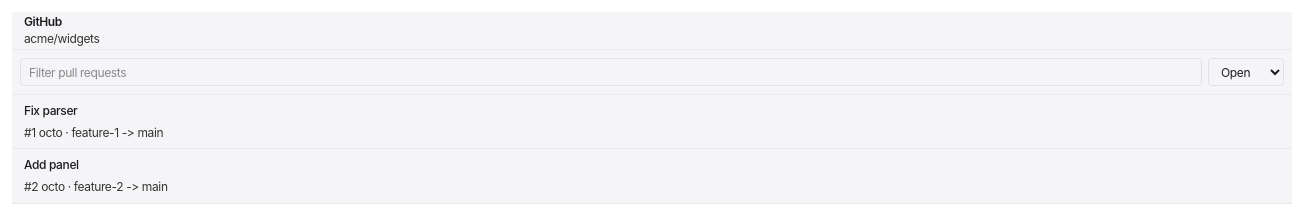
Test case: PullRequestPanel › loads the provider list and filters visible requests
Check: the text with test id "provider-name" reads "GitHub", box [24,14,62,29]
Check: the number of buttons with test id "pull-request-row" is 2, box [12,95,1292,149]; [12,149,1292,204]
Step 1. Type "feature-2" into the search field with test id "pull-request-filter" → (611, 72), box [20,58,1202,86]
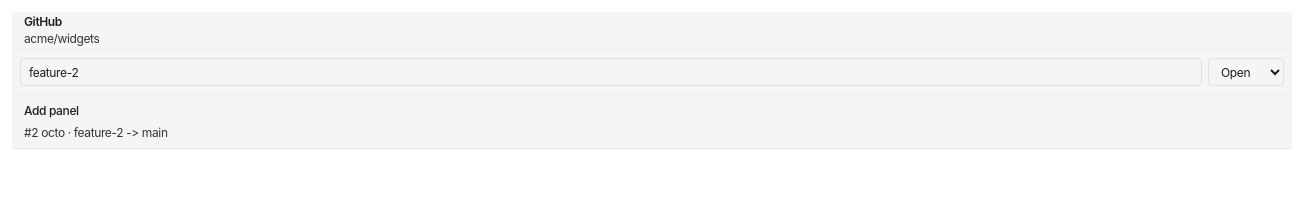
Check: the text "Add panel" is shown, box [24,103,79,118]
Check: the number of buttons with test id "pull-request-row" is 1, box [12,95,1292,149]
